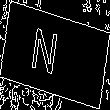N_S: (39, 26, 71, 84)
